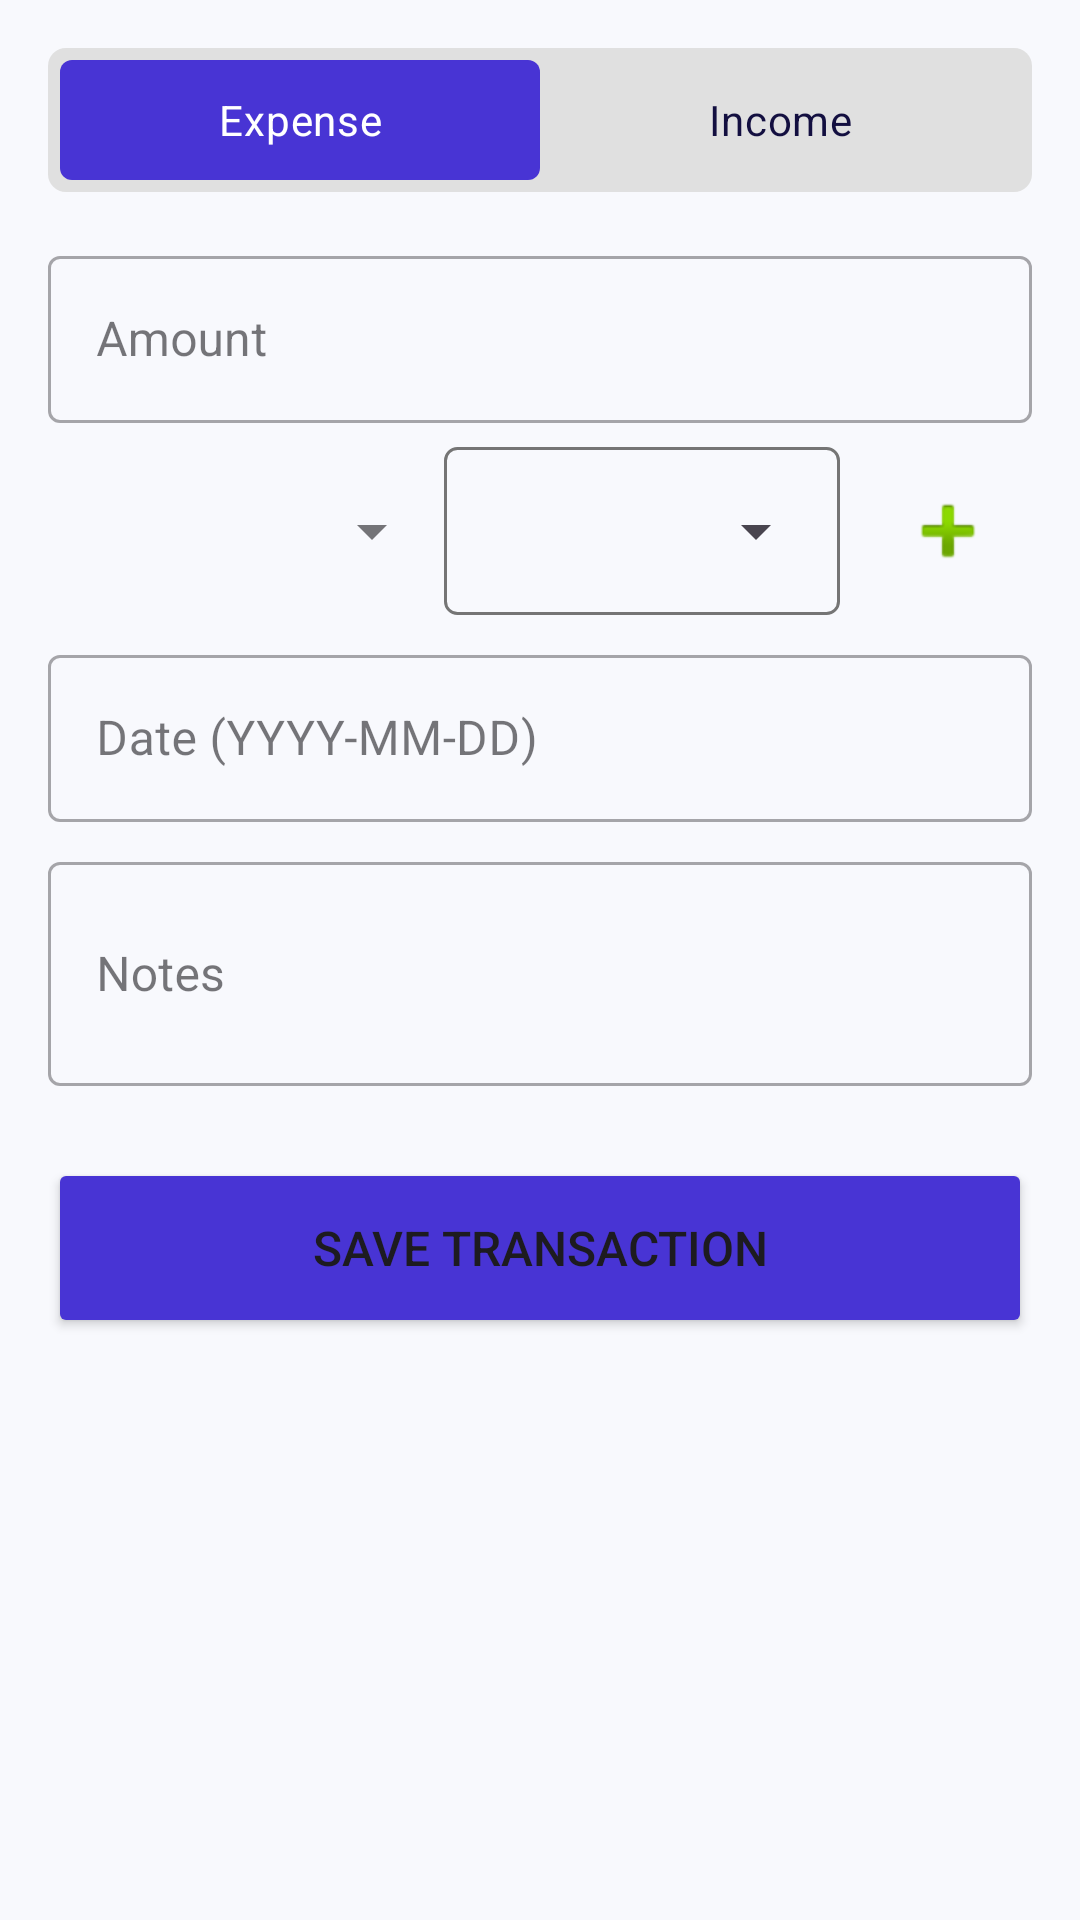

Icon bounding boxes for this 1080x1920 phone screenshot, format BBox(x1, y1, x2, y2):
Add Category: BBox(921, 504, 975, 558)
